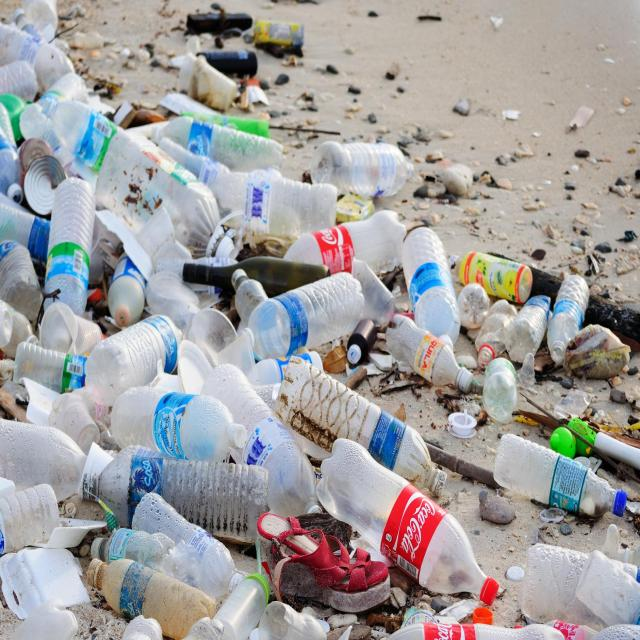plastic_bottle: (310, 397, 520, 624), (83, 448, 280, 560), (222, 252, 373, 397), (490, 427, 640, 523), (79, 295, 194, 407), (48, 168, 103, 313), (395, 219, 467, 328)
